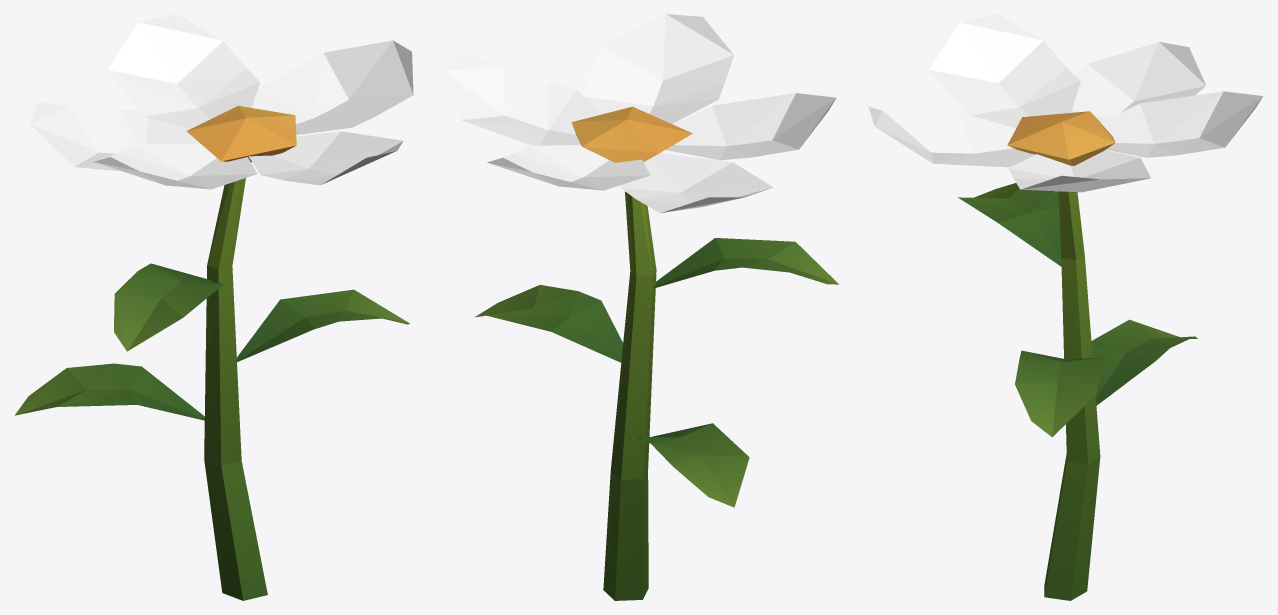
File: Flower_02.fbx
3 views of the same model, side by side, from view 1: azimuth 30°, elevation 25°; view 2: azimuth 150°, elevation 25°; view 3: azimuth 270°, elevation 25° (orthographic).
Parts seen in each view (by area): view 1: Flower_02; view 2: Flower_02; view 3: Flower_02.
Part boxes in pixels (<box>): Flower_02: <box>15,14,413,600</box>; Flower_02: <box>442,14,838,600</box>; Flower_02: <box>868,14,1263,600</box>.
Bounding box in the file's own units: 0.2771 × 0.394 × 0.2846.
